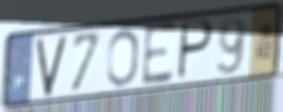7: (71, 29, 104, 95)
9: (214, 15, 251, 76)
E: (140, 19, 179, 90)
O: (105, 27, 140, 89)
P: (175, 18, 215, 83)
V: (34, 33, 69, 99)
